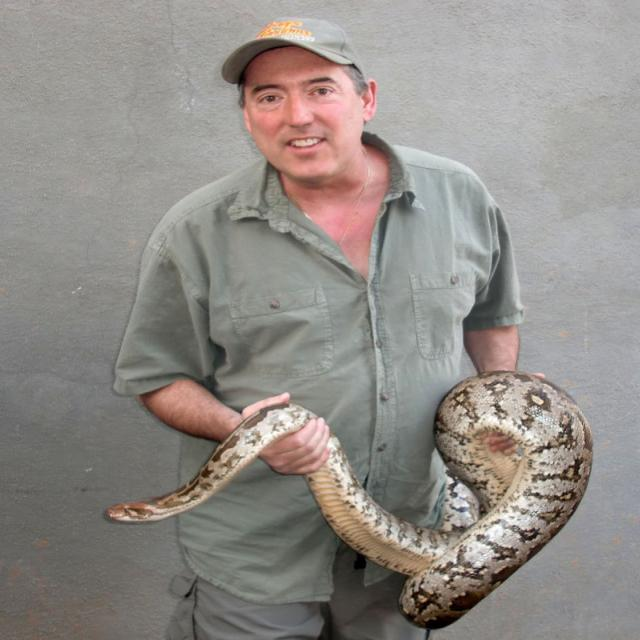Snake: (106, 368, 593, 630)
